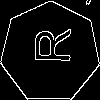R: (25, 27, 71, 64)
